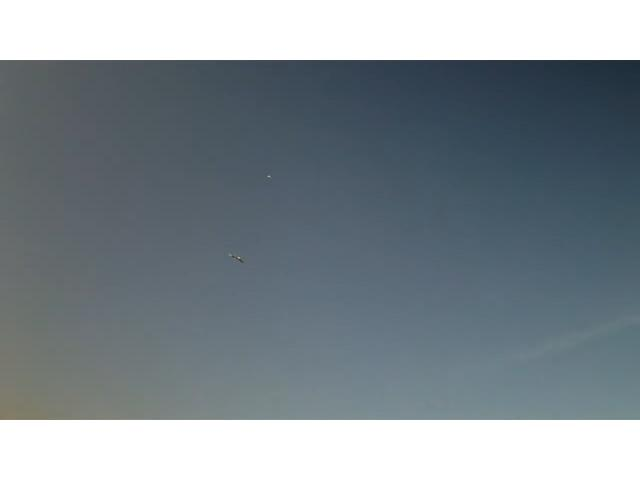Anti-Drone: (230, 254, 244, 263)
